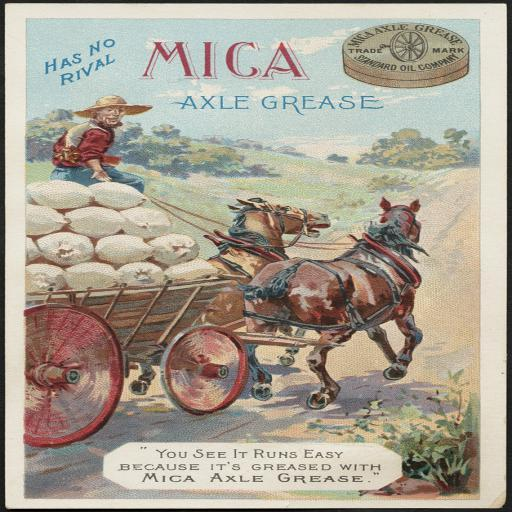horse: (131, 195, 333, 396), (240, 193, 424, 410)
